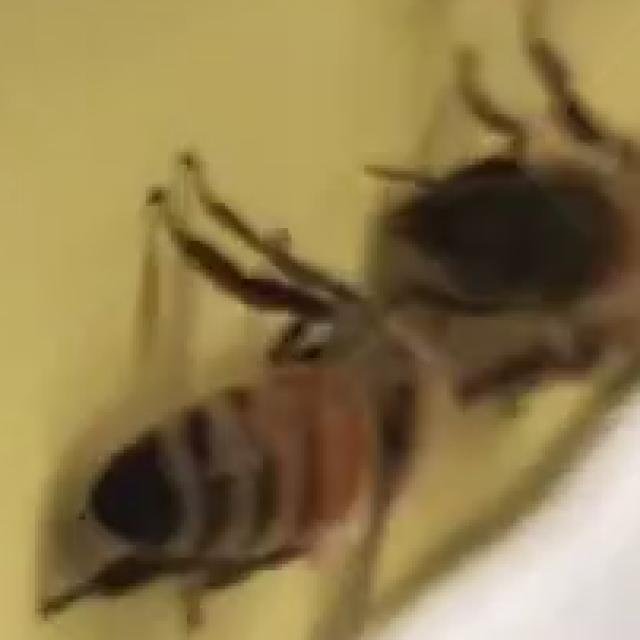honeybee: (90, 269, 418, 610), (374, 89, 640, 396)
